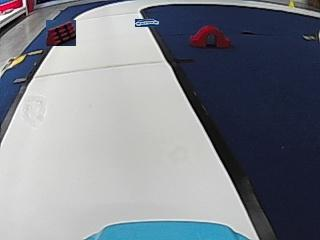bridge: (188, 24, 229, 49)
